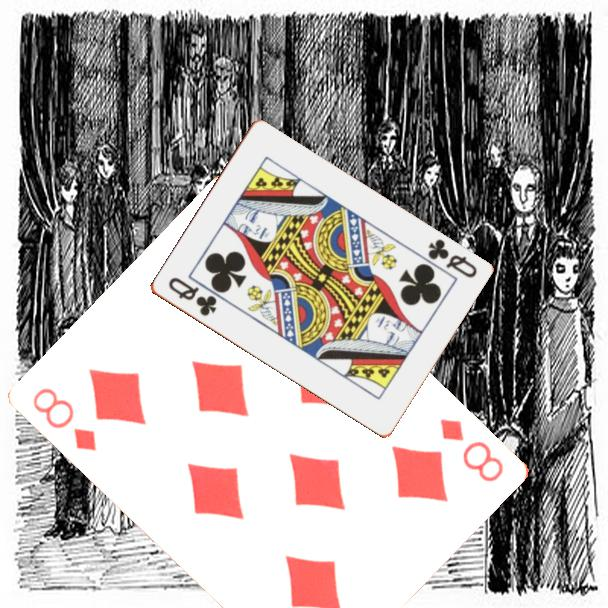c12: (424, 235, 480, 281), (164, 274, 219, 319)
d08: (30, 384, 101, 454), (437, 415, 507, 485)
